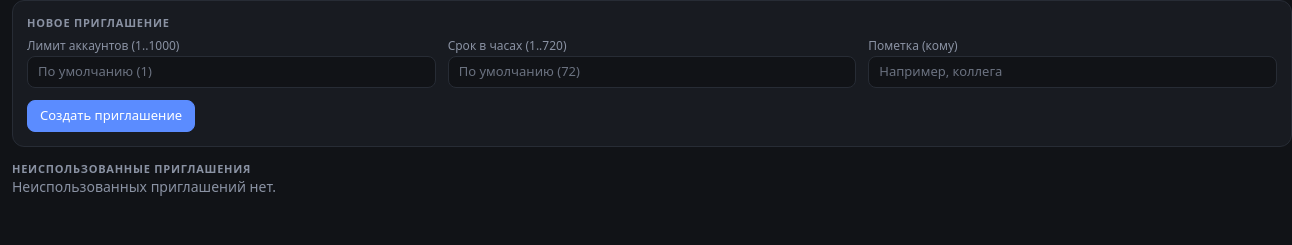
it: Консоль владельца › создание приглашения: дробный лимит (2.5) отклоняется клиентом
Type "2.5" into the number field labelled "Лимит аккаунтов (1..1000)" at (231, 72), box top-left (27, 56), bottom-right (436, 88)
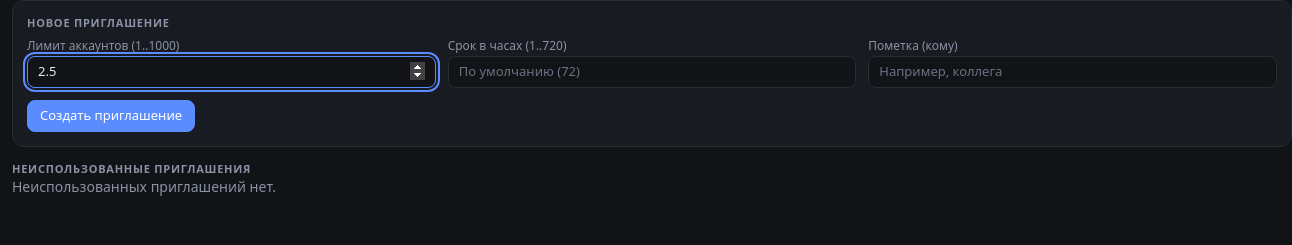
Click the button "Создать приглашение" at (111, 116), box top-left (27, 100), bottom-right (195, 132)
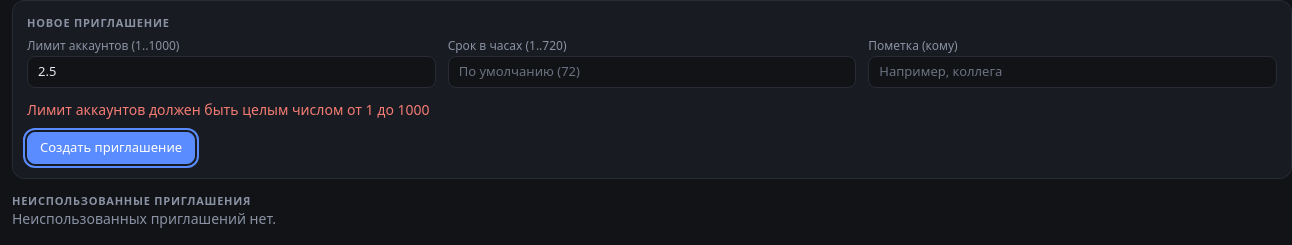
Now the text "Лимит аккаунтов должен быть целым числом от 1 до 1000" is shown, box top-left (27, 100), bottom-right (430, 118)
